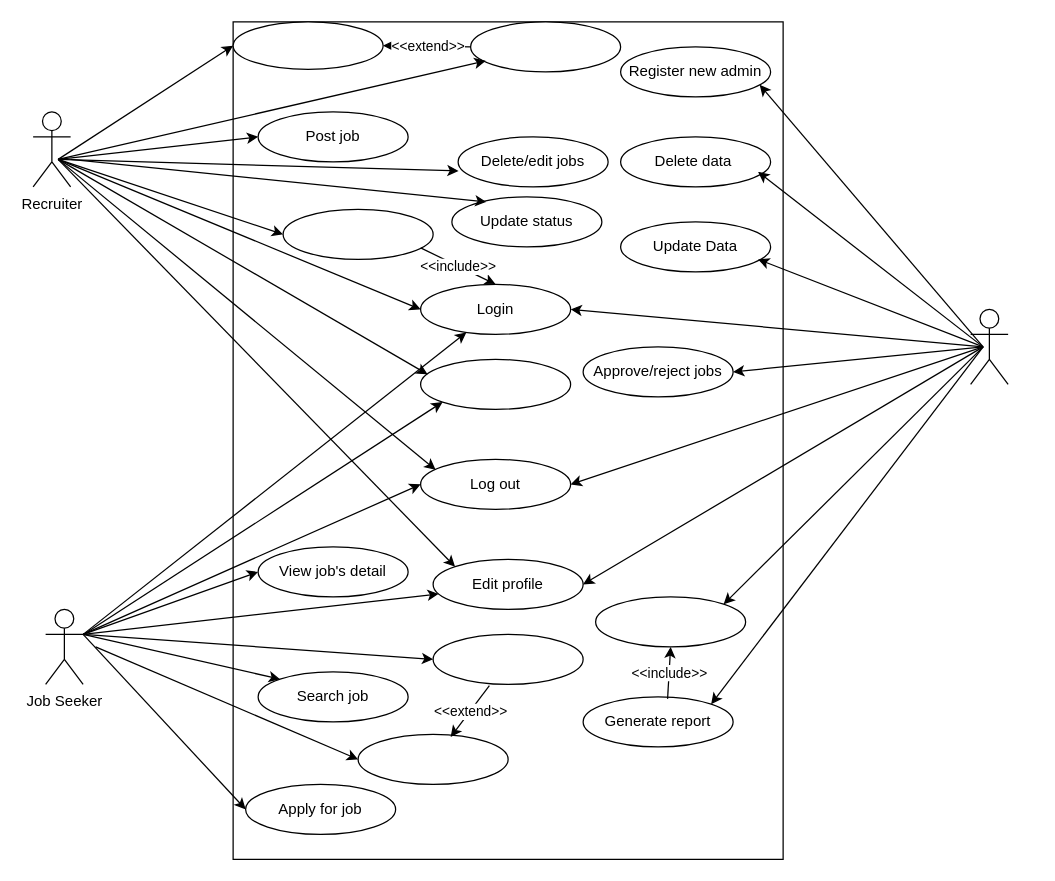
Image size: 1055x881. Some labels were removed from this diagram. Each missing label, with the box of its shape:
Administrator: (969, 308, 1008, 384)
Receive notification: (432, 633, 583, 684)
Register: (419, 358, 571, 409)
Register Company: (282, 208, 433, 259)
Send schedule: (469, 21, 621, 72)
View applicant: (232, 21, 383, 69)
View job status: (357, 733, 508, 784)
View total user: (594, 596, 746, 647)
